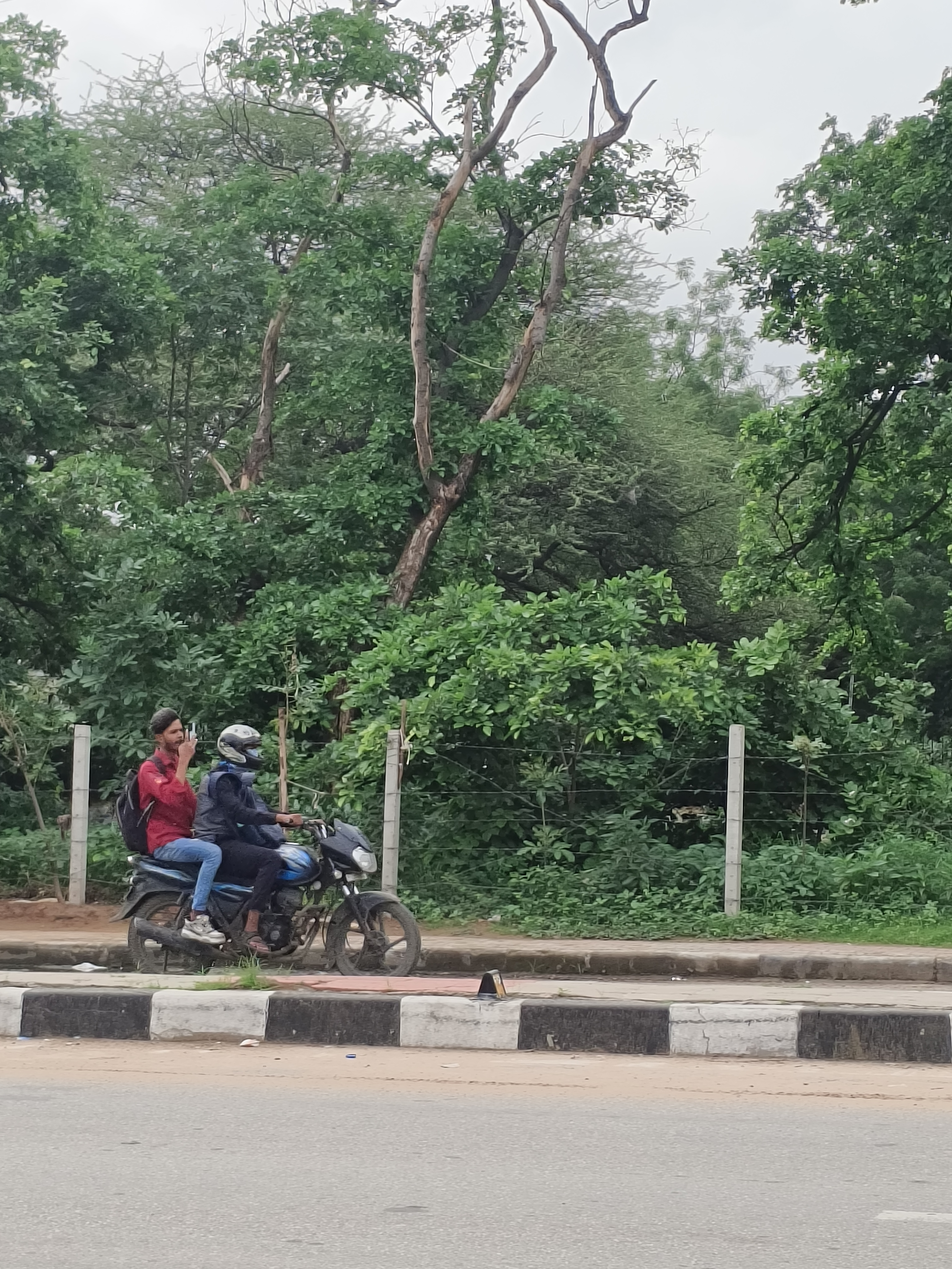BikeWithRider: (95, 691, 439, 986)
Helmet: (205, 713, 274, 776)
NoHelmet: (150, 696, 197, 762)
